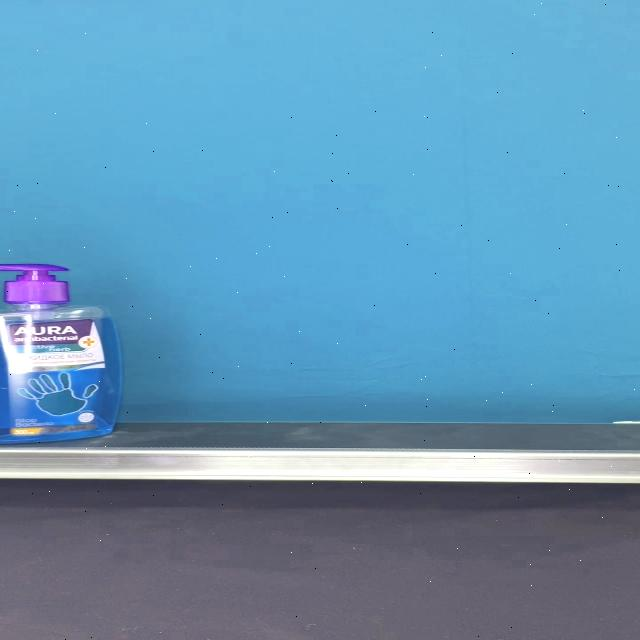Bottle: (0, 263, 122, 444)
Cap: (0, 263, 69, 305)
